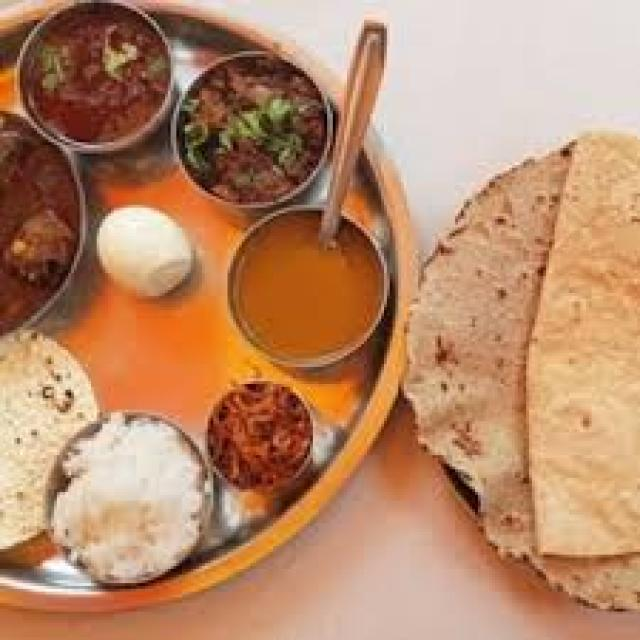DOSA: (523, 128, 637, 555)
ROTI: (0, 330, 94, 549)
